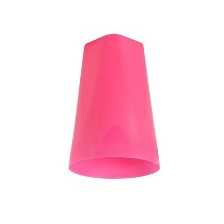glass: (62, 31, 168, 186)
